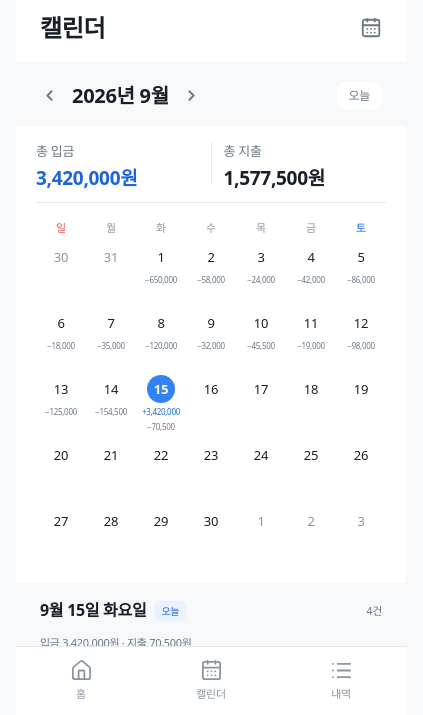
Test case: CalendarPage › 이전 달로 이동하면 그 달 1일을 선택하고 그 달 합계를 보여준다
This screenshot has width=423, height=715.
Click the button named "이전 달": (49, 96) x1=27 y1=74 x2=71 y2=118
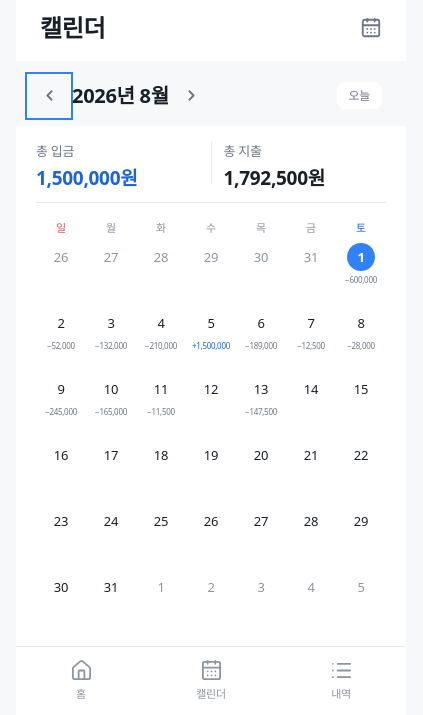
Now the text "2026년 8월" is shown, box x1=72 y1=81 x2=169 y2=110
Now the text "1,500,000원" is shown, box x1=36 y1=165 x2=137 y2=191
Now the text "1,792,500원" is shown, box x1=224 y1=165 x2=325 y2=191
